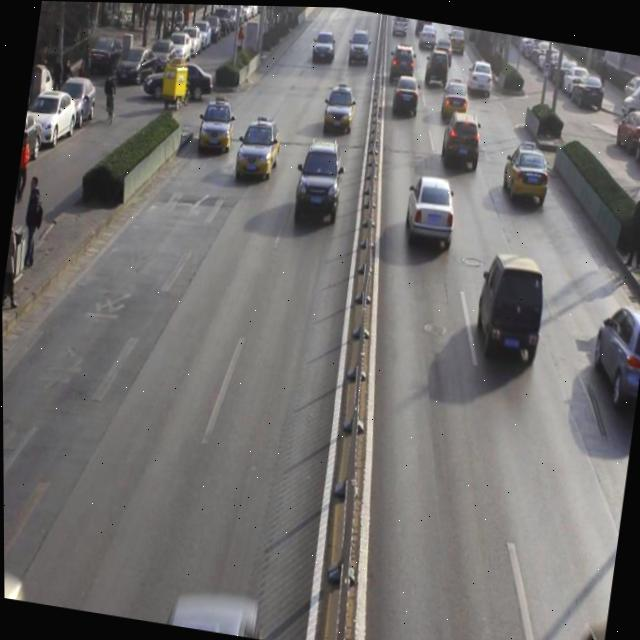car: (587, 295, 640, 405), (399, 170, 460, 255), (293, 138, 348, 225), (500, 140, 554, 210), (234, 115, 285, 183), (439, 109, 486, 178), (195, 95, 238, 160), (322, 83, 359, 136), (439, 76, 472, 120), (393, 69, 422, 116), (423, 43, 452, 86), (388, 40, 417, 83), (345, 26, 373, 70), (466, 58, 496, 95), (310, 31, 337, 65)
truck: (470, 246, 552, 370)
